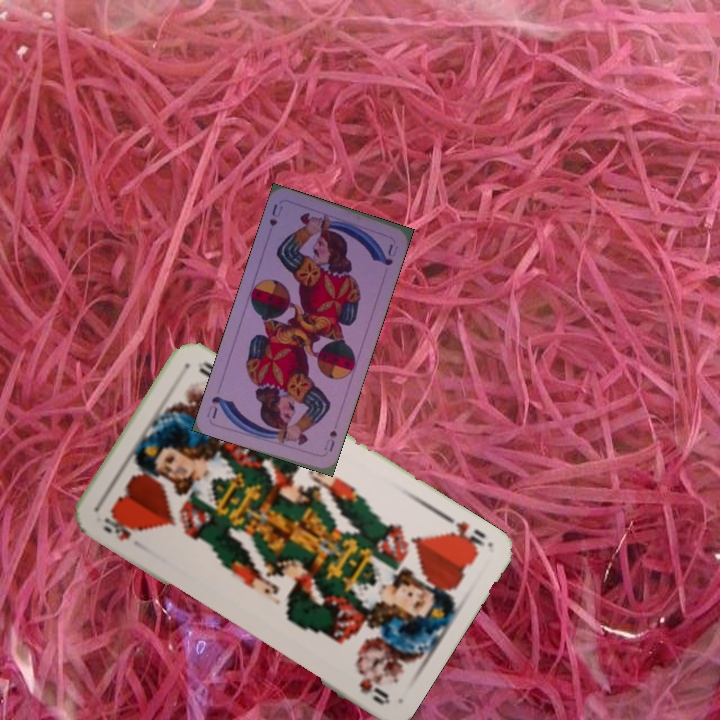HO: (438, 509, 489, 556), (99, 513, 139, 544)
SU: (265, 199, 285, 229), (320, 426, 340, 454)
